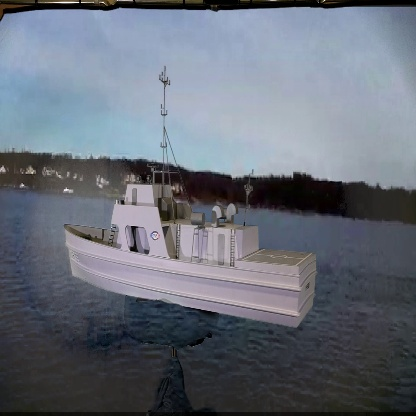YP689: (66, 74, 316, 327)
